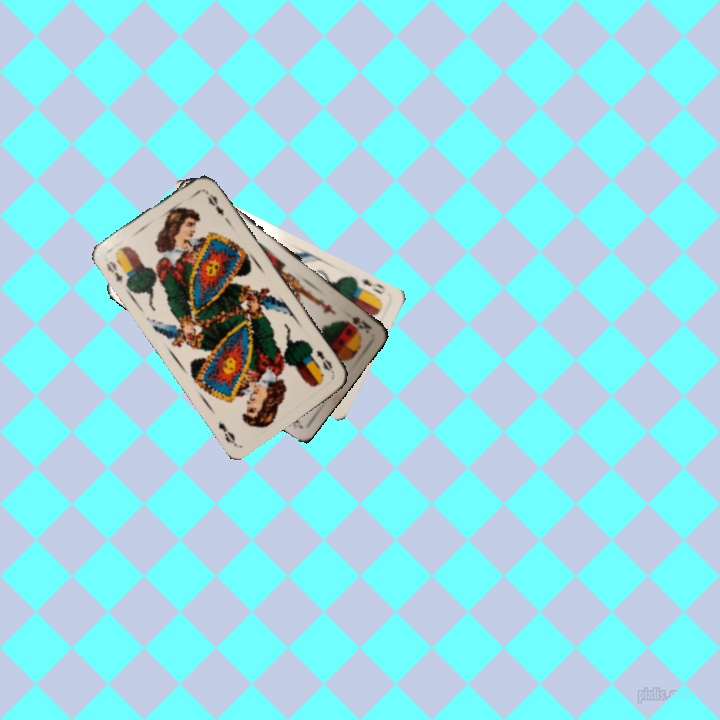EO: (352, 274, 386, 300), (312, 346, 337, 376), (102, 257, 126, 287)
SK: (348, 312, 374, 336)
